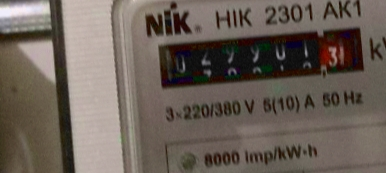0: (272, 38, 289, 64), (172, 52, 189, 76)
1: (299, 36, 313, 61)
2: (197, 45, 214, 68)
3: (325, 45, 342, 69)
9: (248, 42, 262, 66), (223, 43, 237, 65)
screen: (149, 19, 375, 100)
